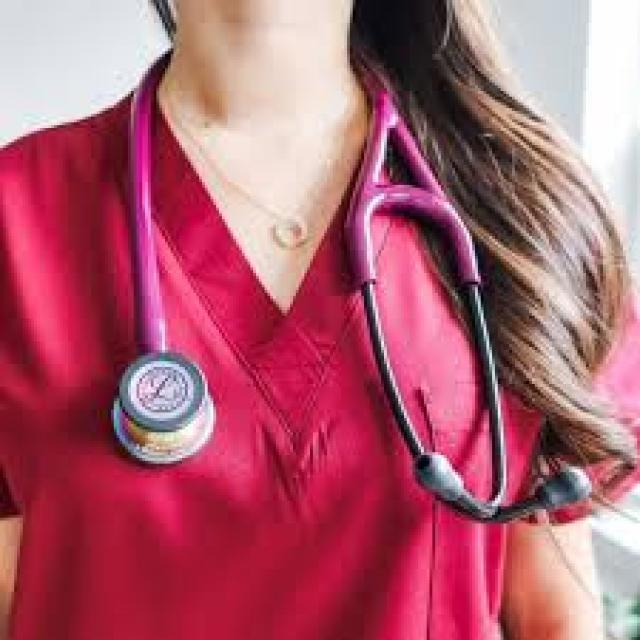stethoscope: (76, 88, 546, 542)
